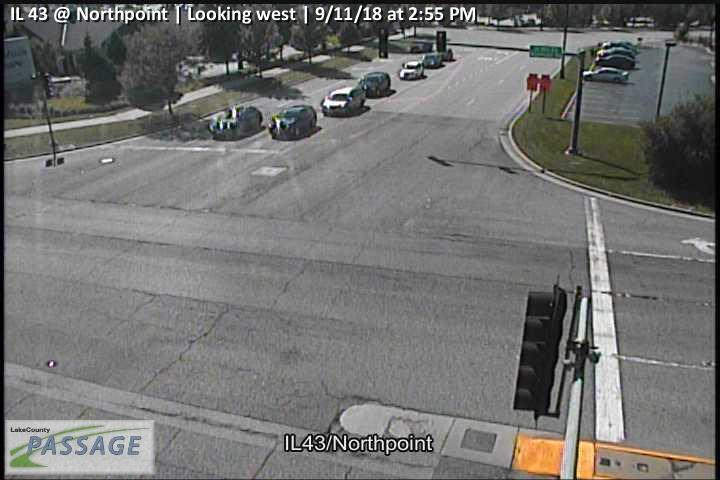SUV: (267, 104, 317, 140), (209, 106, 263, 138), (321, 86, 367, 117), (359, 72, 391, 98), (399, 61, 424, 79)
Sedan: (581, 67, 630, 82), (594, 55, 636, 69), (601, 40, 640, 53), (596, 47, 636, 59), (423, 54, 443, 69)
